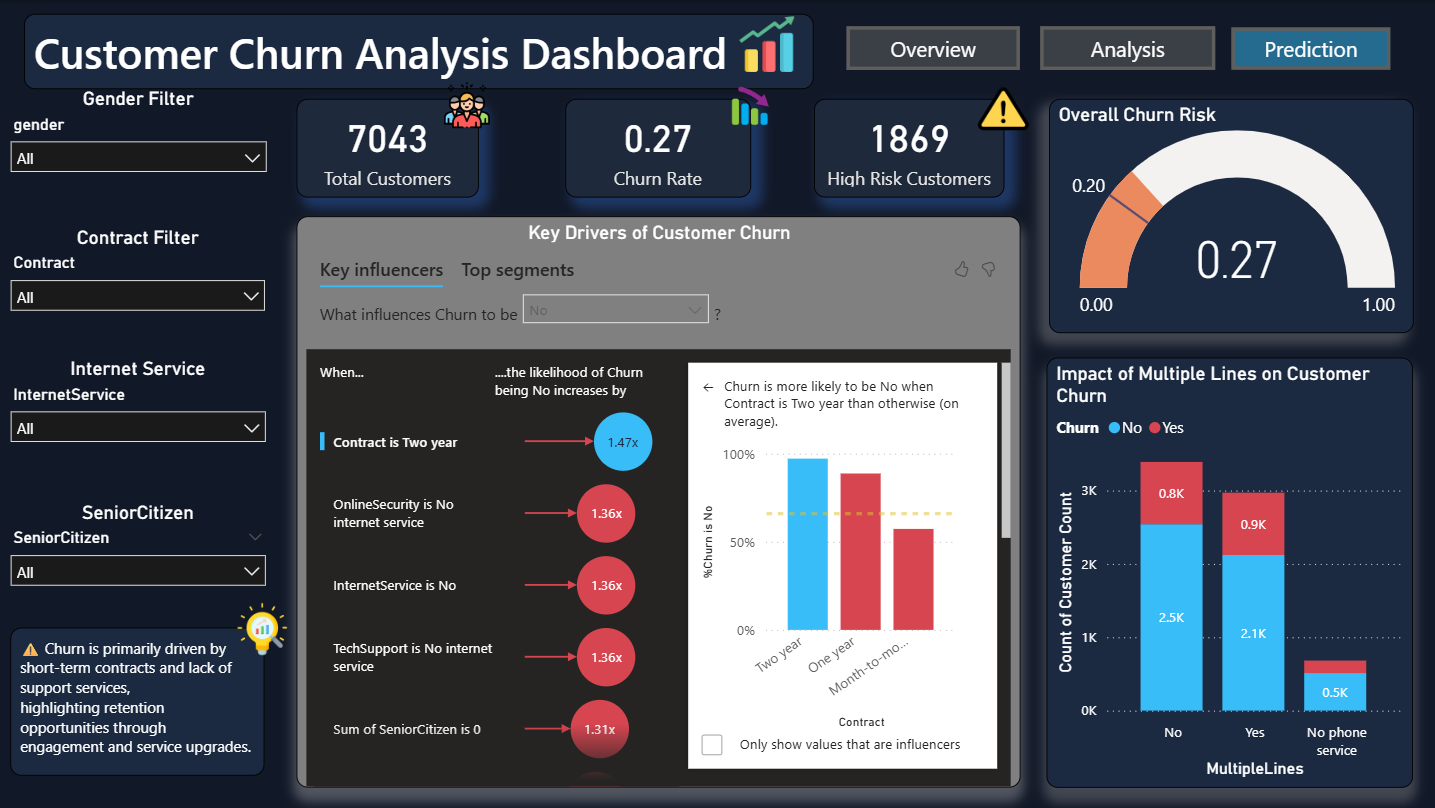

The dashboard page shown, as its layout file describes it:
{"tool":"powerbi","page":{"name":"Prediction","canvas":[1280,720],"ordinal":3},"visuals":[{"type":"actionButton","box":[754.6,23.1,154.4,39],"z":0},{"type":"actionButton","box":[1097.9,24.5,141.4,37.5],"z":1000},{"type":"actionButton","box":[927.7,23.1,155.8,39],"z":2000},{"type":"slicer","title":"Contract Filter","fields":{"Values":["Churn.Contract"]},"box":[0,192,247.5,120.9],"z":3000},{"type":"slicer","title":"Gender Filter","fields":{"Values":["Churn.gender"]},"box":[0,77.9,248.2,124.1],"z":4000},{"type":"slicer","title":"Internet Service","fields":{"Values":["Churn.InternetService"]},"box":[0,318.6,247.5,128],"z":5000},{"type":"slicer","title":"SeniorCitizen","fields":{"Values":["Churn.SeniorCitizen"]},"box":[0,446.6,247.5,128],"z":6000},{"type":"card","fields":{"Values":["Churn.Total Customers"]},"box":[264.7,87.8,162.3,87.8],"z":7000},{"type":"card","fields":{"Values":["Churn.Churn Rate"]},"box":[504.6,87.8,165.3,87.8],"z":8000},{"type":"card","fields":{"Values":["Churn.High Risk Customers"]},"box":[725.4,87.8,169.7,87.8],"z":9000},{"type":"gauge","title":"Overall Churn Risk","fields":{"MaxValue":["select1"],"MinValue":["select"],"TargetValue":["select2"],"Y":["Churn.Churn Rate"]},"box":[934.6,87.8,324.7,209.1],"z":10000},{"type":"keyDriversVisual","title":"Key Drivers of Customer Churn","fields":{"ExplainBy":["Churn.Contract","Churn.TechSupport","Churn.InternetService","Churn.PaymentMethod","Churn.PaperlessBilling","Sum(Churn.SeniorCitizen)","Churn.OnlineSecurity"],"Target":["Churn.Churn"]},"box":[264.7,193.1,645,509],"z":11000},{"type":"columnChart","title":"Impact of Multiple Lines on Customer Churn","fields":{"Category":["Churn.MultipleLines"],"Series":["Churn.Churn"],"Y":["CountNonNull(Churn.Customer Count)"]},"box":[933.1,318.8,326.1,383.2],"z":12000},{"type":"textbox","box":[21.9,11.7,703.5,67.3],"z":12001},{"type":"image","box":[628.9,14.6,109.7,49.7],"z":12002},{"type":"image","box":[396.3,64.4,41,58.5],"z":12003},{"type":"image","box":[647.9,68.7,42.4,49.7],"z":12004},{"type":"image","box":[861.4,71.7,65.8,51.2],"z":12005},{"type":"textbox","box":[10,558.9,226.1,132.3],"z":12006},{"type":"image","box":[203.4,536.2,61.2,46.9],"z":12007}]}

Visuals, with their boxes in screenshot pixels (x1, y1, x2, y2), scaled from the page's 1280x720 canvas onto the 1435x808 screenshot:
actionButton: locate(846, 26, 1019, 70)
actionButton: locate(1231, 27, 1389, 70)
actionButton: locate(1040, 26, 1215, 70)
"Contract Filter" slicer: locate(0, 215, 277, 351)
"Gender Filter" slicer: locate(0, 87, 278, 227)
"Internet Service" slicer: locate(0, 358, 277, 501)
"SeniorCitizen" slicer: locate(0, 501, 277, 645)
card - Churn.Total Customers: locate(297, 99, 479, 197)
card - Churn.Churn Rate: locate(566, 99, 751, 197)
card - Churn.High Risk Customers: locate(813, 99, 1003, 197)
"Overall Churn Risk" gauge: locate(1048, 99, 1412, 333)
"Key Drivers of Customer Churn" keyDriversVisual: locate(297, 217, 1020, 788)
"Impact of Multiple Lines on Customer Churn" columnChart: locate(1046, 358, 1412, 788)
textbox: locate(25, 13, 813, 89)
image: locate(705, 16, 828, 72)
image: locate(444, 72, 490, 138)
image: locate(726, 77, 774, 133)
image: locate(966, 80, 1039, 138)
textbox: locate(11, 627, 265, 776)
image: locate(228, 602, 297, 654)
